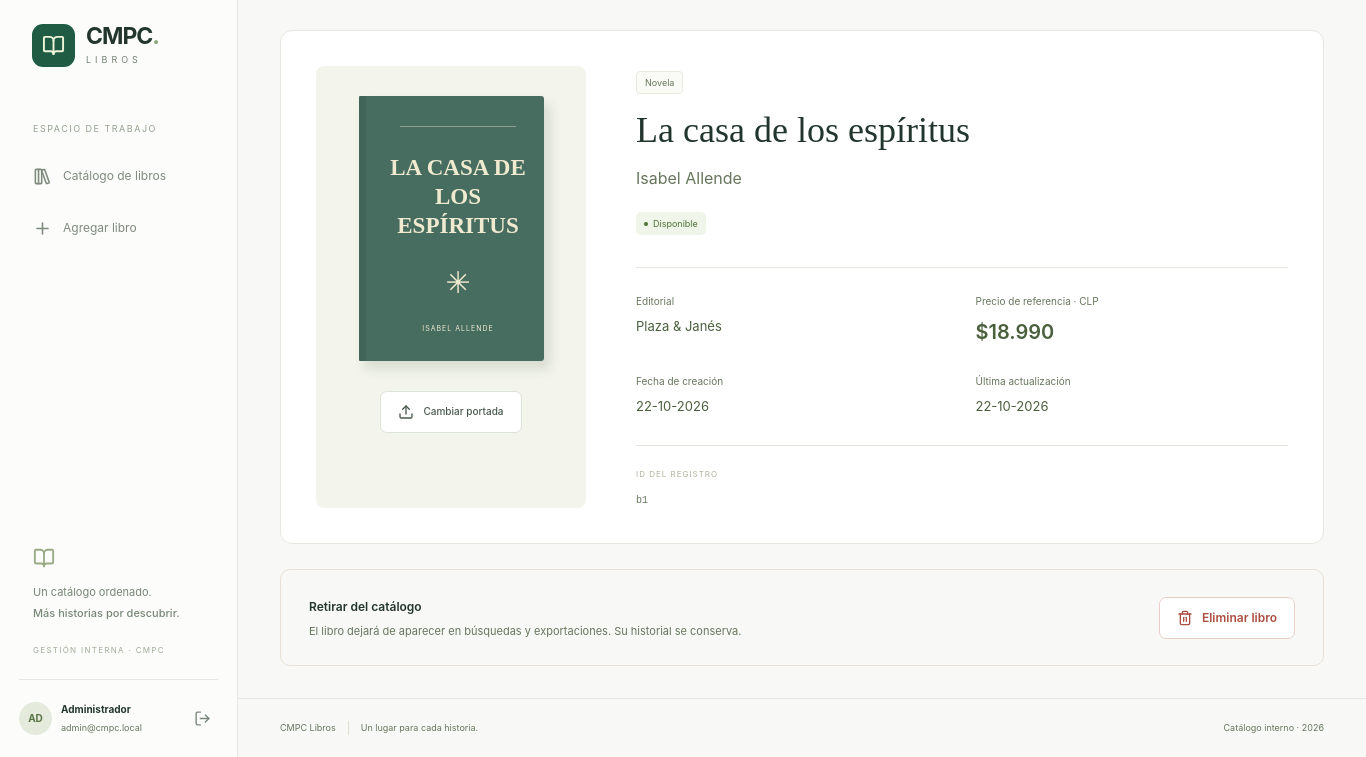
Scenario: Detalle › muestra error si falla eliminación
The width and height of the screenshot is (1366, 757).
(page scrolled)
Check: the heading "La casa de los espíritus" is shown, box 636,110 -> 970,150
Click the button "Eliminar libro": x=1227, y=618 1159,597 -> 1295,639
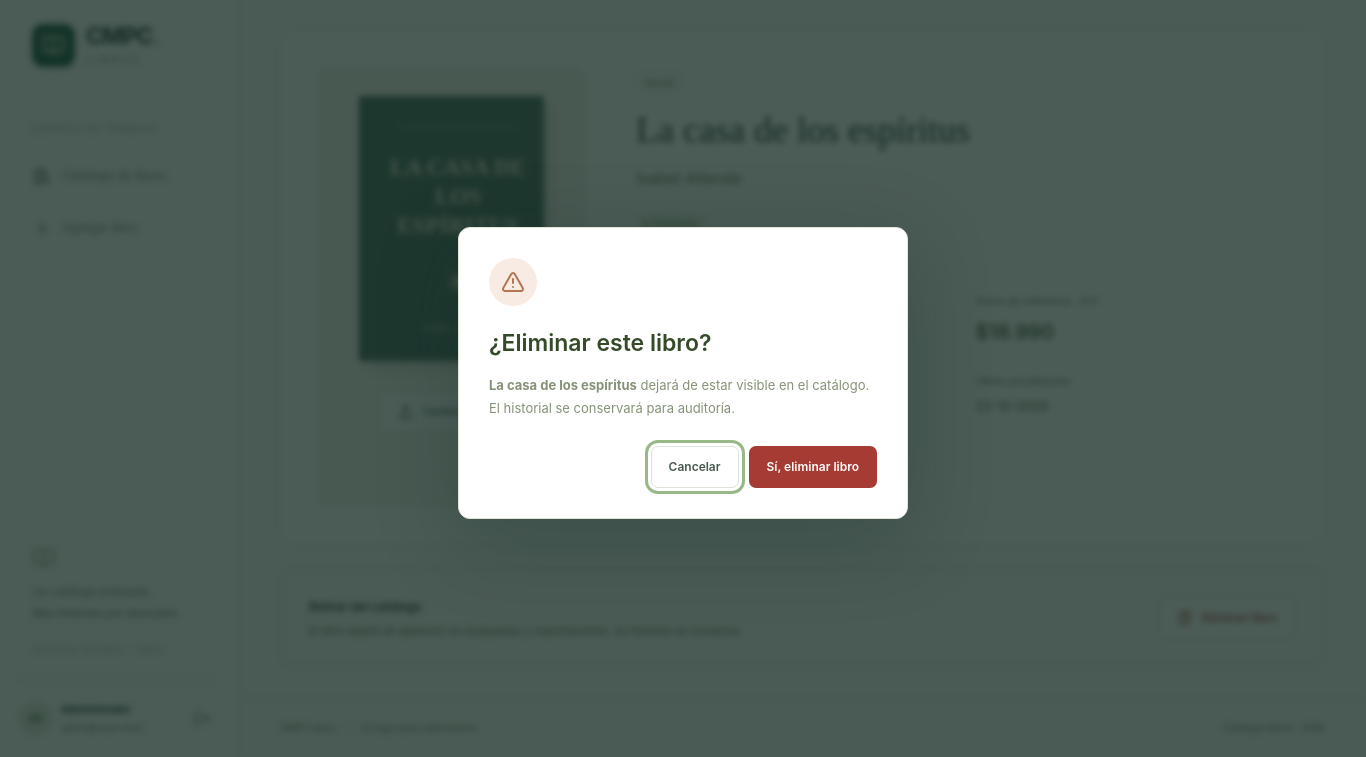
Click the button "Sí, eliminar libro": x=813, y=467 748,446 -> 877,488
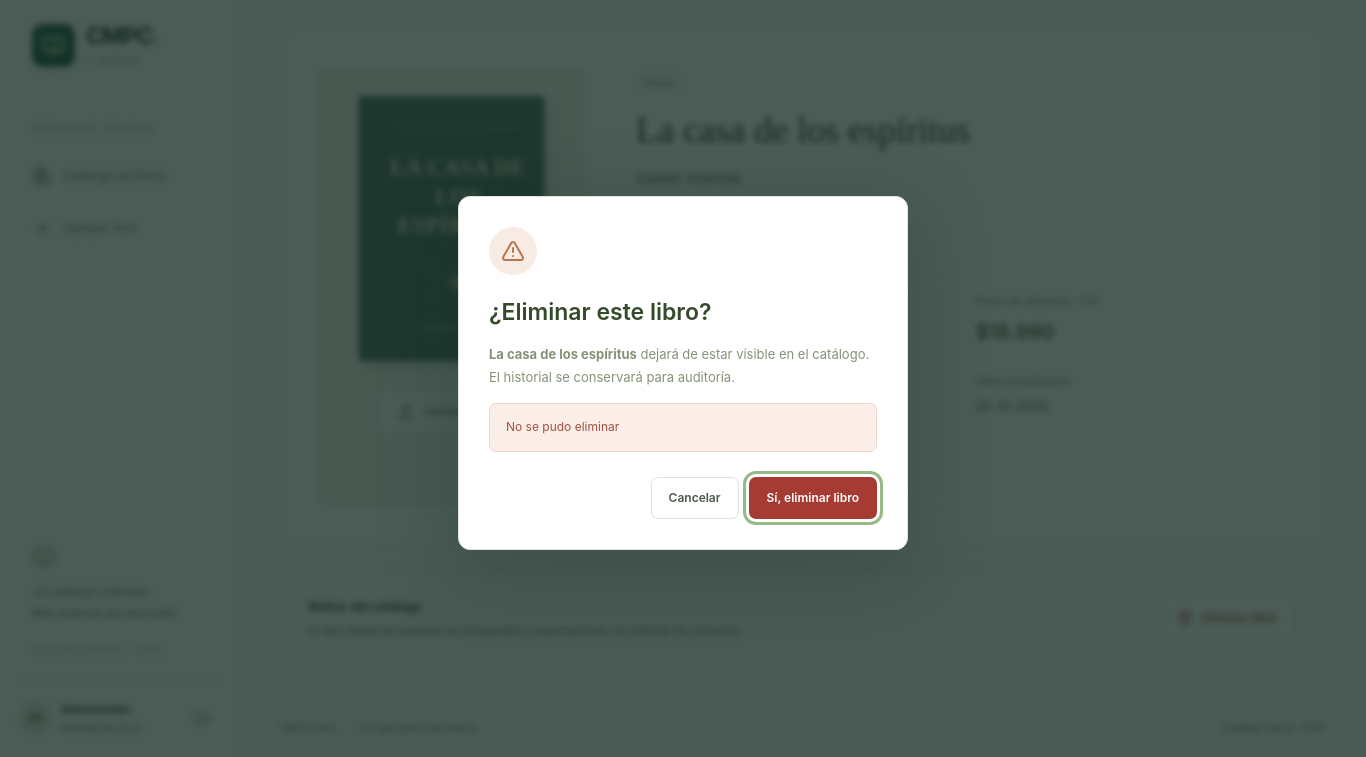
Check: the message reads "No se pudo eliminar", box 506,419 -> 619,434
